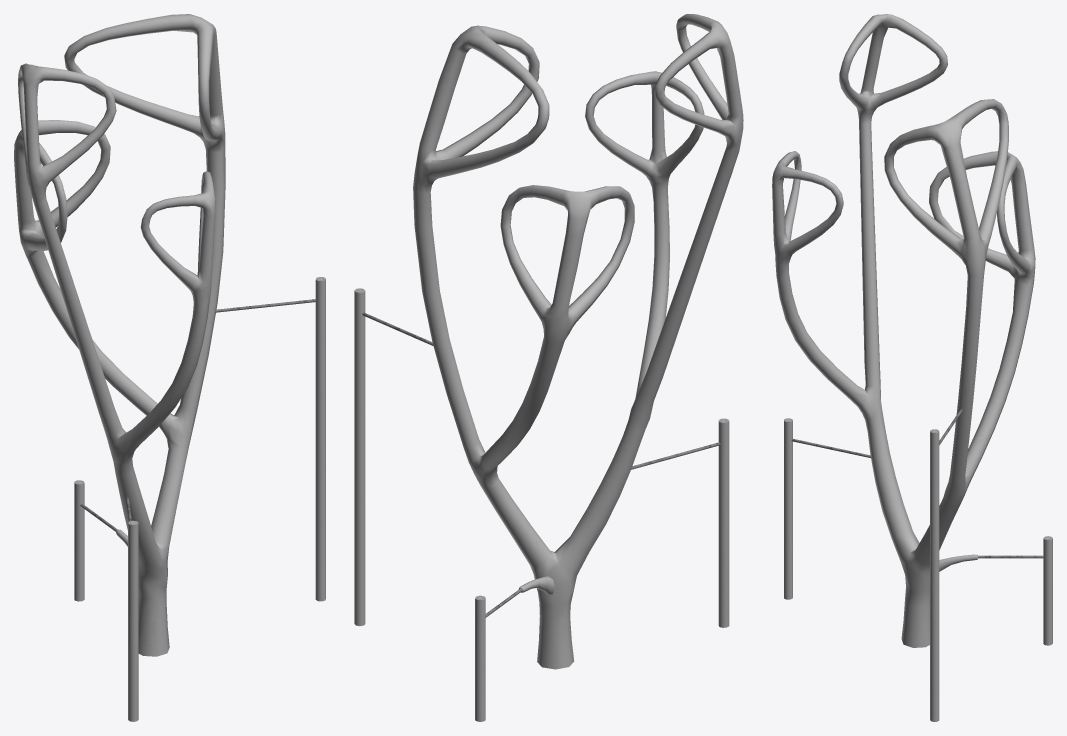
Rendered from MB_Art_Object.fbx.
3 renders of one model, left to right at view 1: azimuth 30°, elevation 25°; view 2: azimuth 150°, elevation 25°; view 3: azimuth 270°, elevation 25°, orthographic. The views are drawn at different scales.
Parts seen in each view (by area): view 1: MB_Art_Object_LOD0; view 2: MB_Art_Object_LOD0; view 3: MB_Art_Object_LOD0.
Part boxes in pixels (<box>): MB_Art_Object_LOD0: <box>14,14,325,721</box>; MB_Art_Object_LOD0: <box>354,14,743,721</box>; MB_Art_Object_LOD0: <box>772,14,1052,721</box>.
Size of what is drawn, in the model's own units: 522 by 946 by 421.
